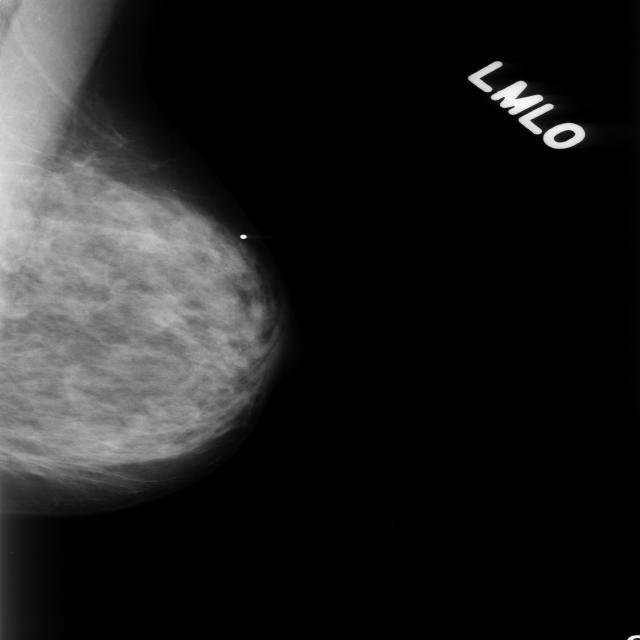cancer: (0, 192, 281, 488)
